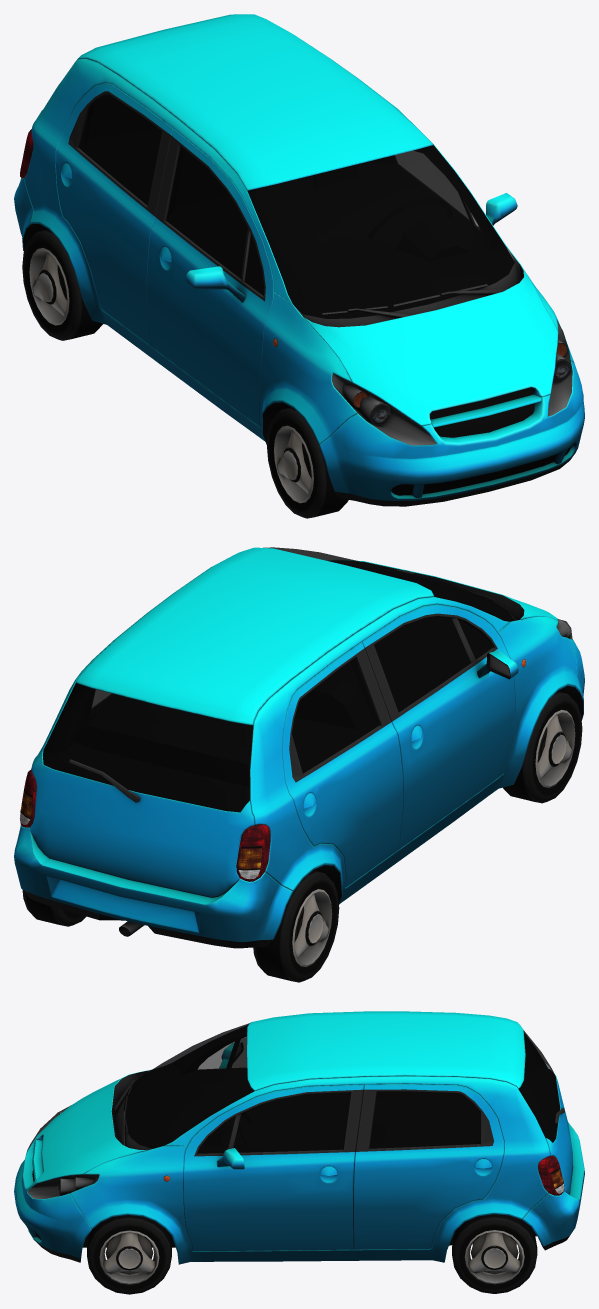
File: car5.glb
3 renders of one model, top to bottom at view 1: azimuth 30°, elevation 25°; view 2: azimuth 150°, elevation 25°; view 3: azimuth 270°, elevation 25°, orthographic. The views are drawn at different scales.
Visible parts, largest first — view 1: Compact Body, front_wheels, rear_wheels; view 2: Compact Body, rear_wheels, front_wheels; view 3: Compact Body, rear_wheels, front_wheels.
Boxes of the visible parts, box(x1,y1,x2,y2) form: Compact Body: box(14, 14, 584, 506); front_wheels: box(266, 407, 348, 518); rear_wheels: box(22, 229, 102, 340); Compact Body: box(14, 547, 584, 948); rear_wheels: box(22, 870, 339, 982); front_wheels: box(503, 691, 582, 803); Compact Body: box(14, 1011, 584, 1264); rear_wheels: box(452, 1214, 537, 1293); front_wheels: box(87, 1215, 171, 1294).
Bounding box in the file's own units: 2.09 × 1.71 × 4.23.
4 materials, 3 textured.
